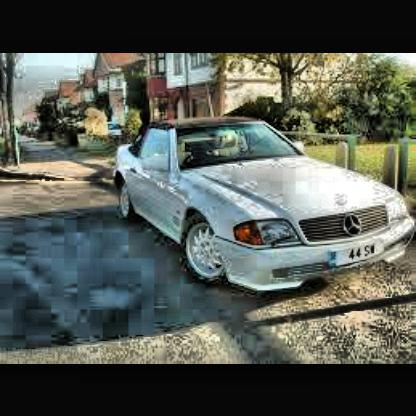Mercedes-Benz 300-Class Convertible 1993: (112, 111, 416, 302)
